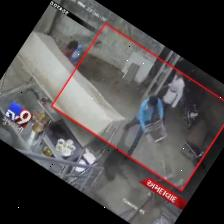person: (161, 72, 184, 123), (61, 41, 77, 59)
